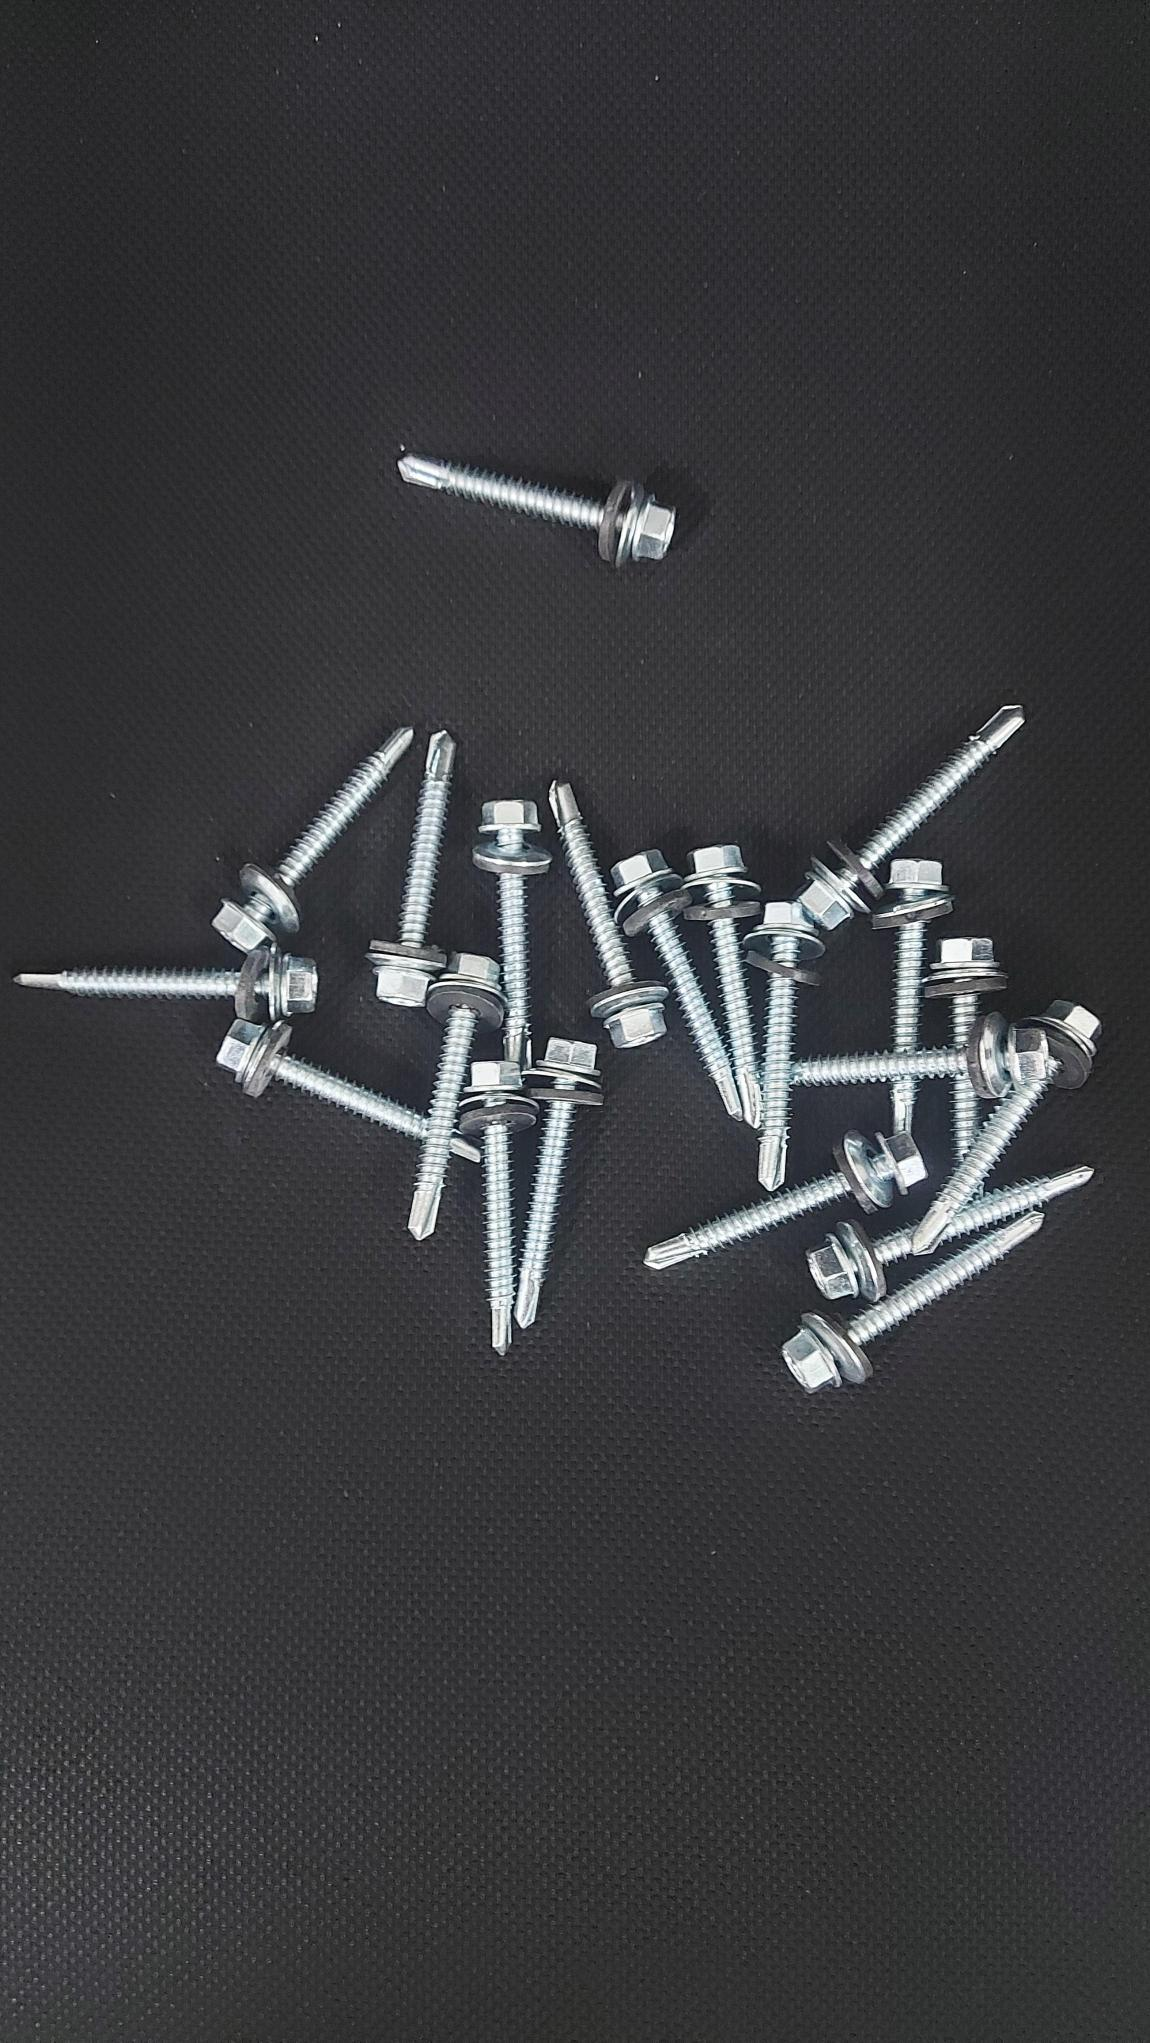Screw: (798, 706, 1024, 929), (912, 1000, 1100, 1254), (783, 1212, 1043, 1391), (213, 727, 412, 951), (645, 1130, 924, 1268), (613, 850, 740, 1118), (548, 782, 666, 1047), (397, 455, 673, 565), (408, 954, 503, 1239), (216, 1020, 428, 1141), (515, 1038, 602, 1327), (367, 732, 454, 1006), (460, 1061, 539, 1355), (743, 904, 823, 1188), (792, 1013, 1052, 1100), (15, 946, 317, 1020), (684, 843, 762, 1127), (473, 800, 550, 1066), (872, 857, 952, 1052), (944, 1166, 1092, 1240), (923, 937, 1006, 1045), (808, 1219, 913, 1302), (892, 1073, 914, 1131), (452, 1137, 478, 1160)
